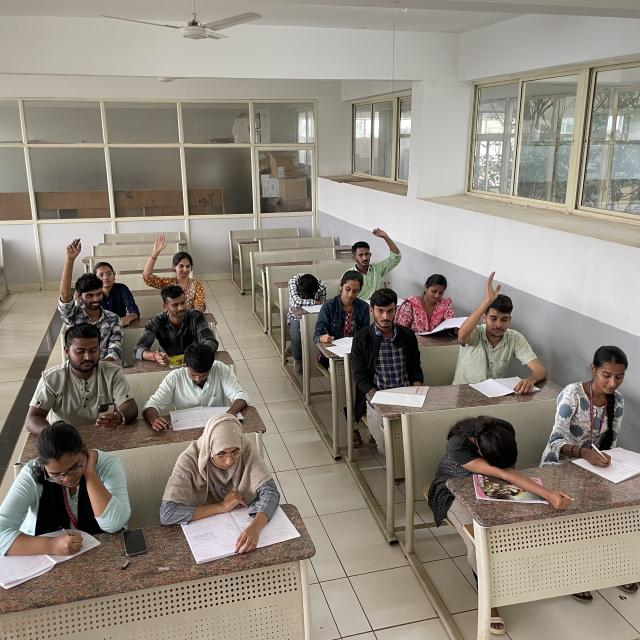Hand Rising: (452, 266, 526, 378), (56, 238, 123, 339), (143, 228, 205, 302), (350, 225, 400, 298)
Reading: (158, 416, 281, 545), (148, 339, 261, 426), (402, 272, 472, 336)
Sleeping: (417, 398, 552, 529), (282, 268, 332, 326)
Writing: (0, 419, 136, 555), (548, 344, 640, 474), (311, 267, 377, 348)
